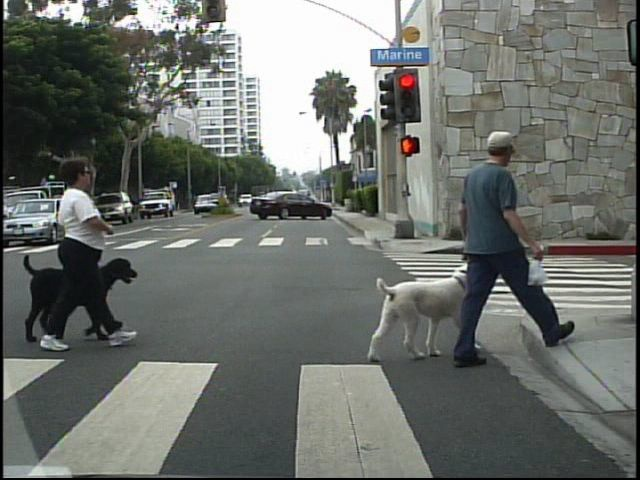person: (439, 117, 553, 369), (39, 151, 112, 355)
